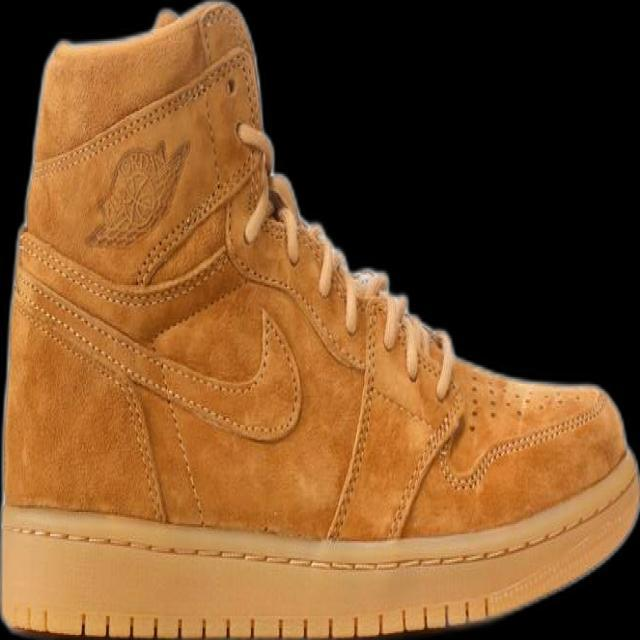J1_InsoleChar: (0, 0, 639, 639)
J1_ShoeLogo: (84, 136, 191, 250)
J1_StitchPattern: (14, 137, 462, 541), (2, 482, 638, 575), (13, 269, 302, 442), (261, 170, 455, 398), (320, 275, 459, 543), (33, 45, 259, 176), (11, 598, 493, 639), (15, 225, 231, 310), (438, 396, 608, 495), (321, 287, 385, 545), (383, 395, 463, 541)
